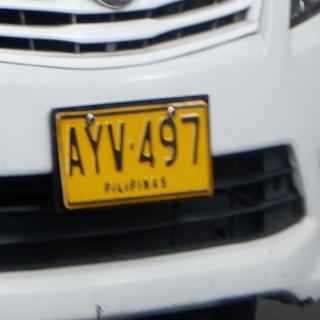license: (53, 96, 215, 213)
